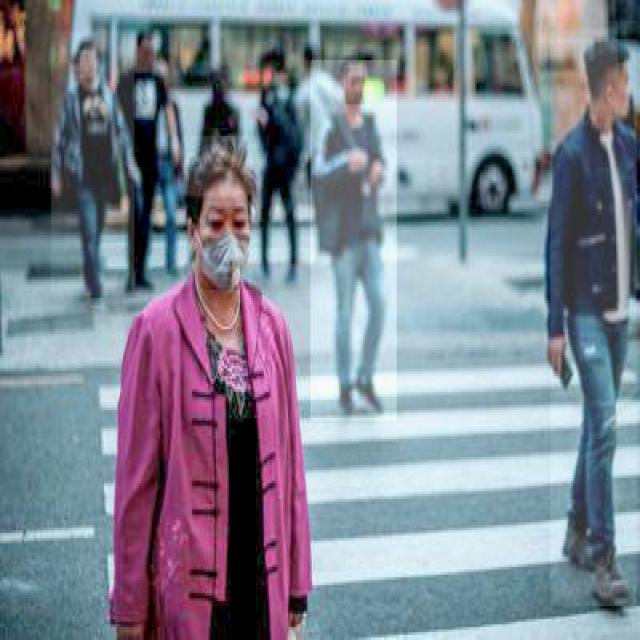face_mask: (198, 196, 250, 292)
face_nomask: (614, 62, 632, 118), (346, 68, 364, 104), (138, 36, 154, 68), (80, 50, 96, 78)
head_nohelmet: (184, 136, 254, 198), (582, 36, 632, 82), (342, 56, 364, 77), (75, 39, 96, 60), (135, 27, 153, 51)
person: (121, 144, 322, 637), (550, 39, 638, 609), (311, 60, 398, 423), (51, 31, 136, 298), (114, 21, 178, 292)
shoes: (585, 534, 636, 613), (560, 504, 598, 572), (354, 367, 384, 414), (335, 376, 356, 416)
